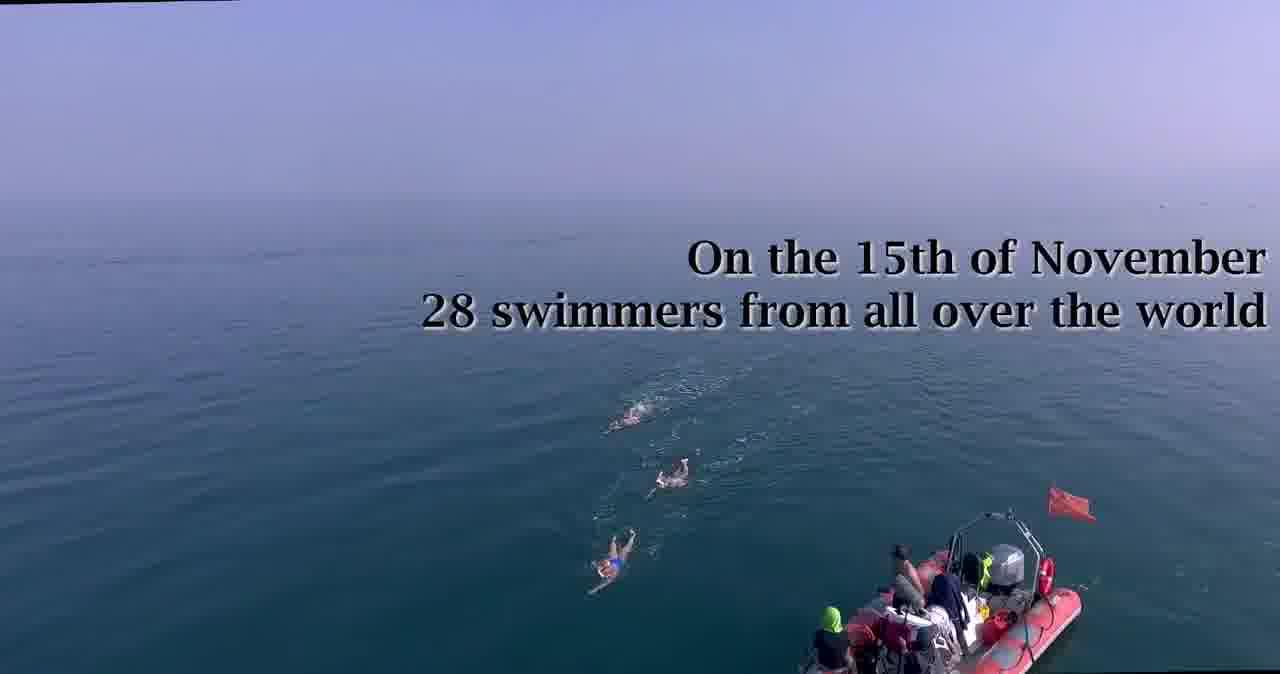human: (576, 530, 634, 597), (650, 451, 688, 495)
